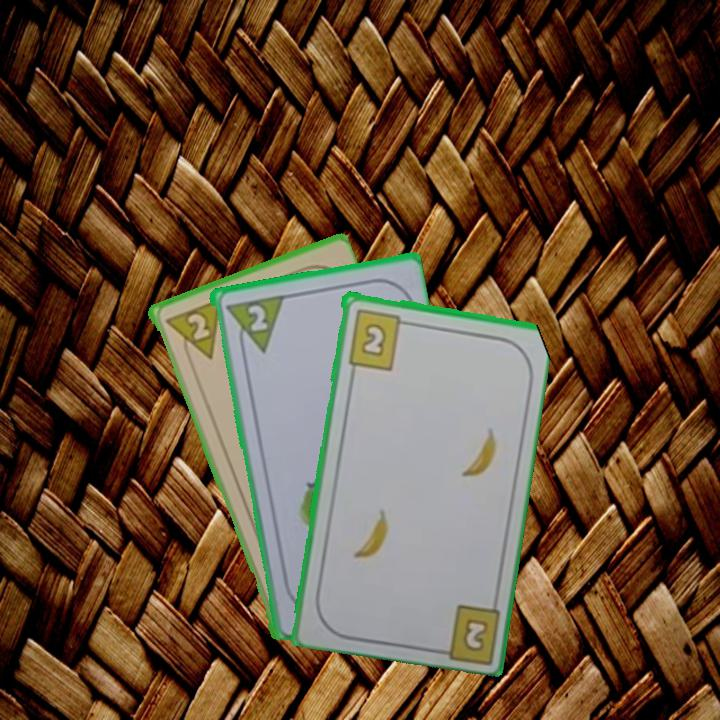2b: (344, 305, 412, 372), (459, 614, 491, 655)
2p: (161, 295, 223, 368), (243, 300, 270, 334)
